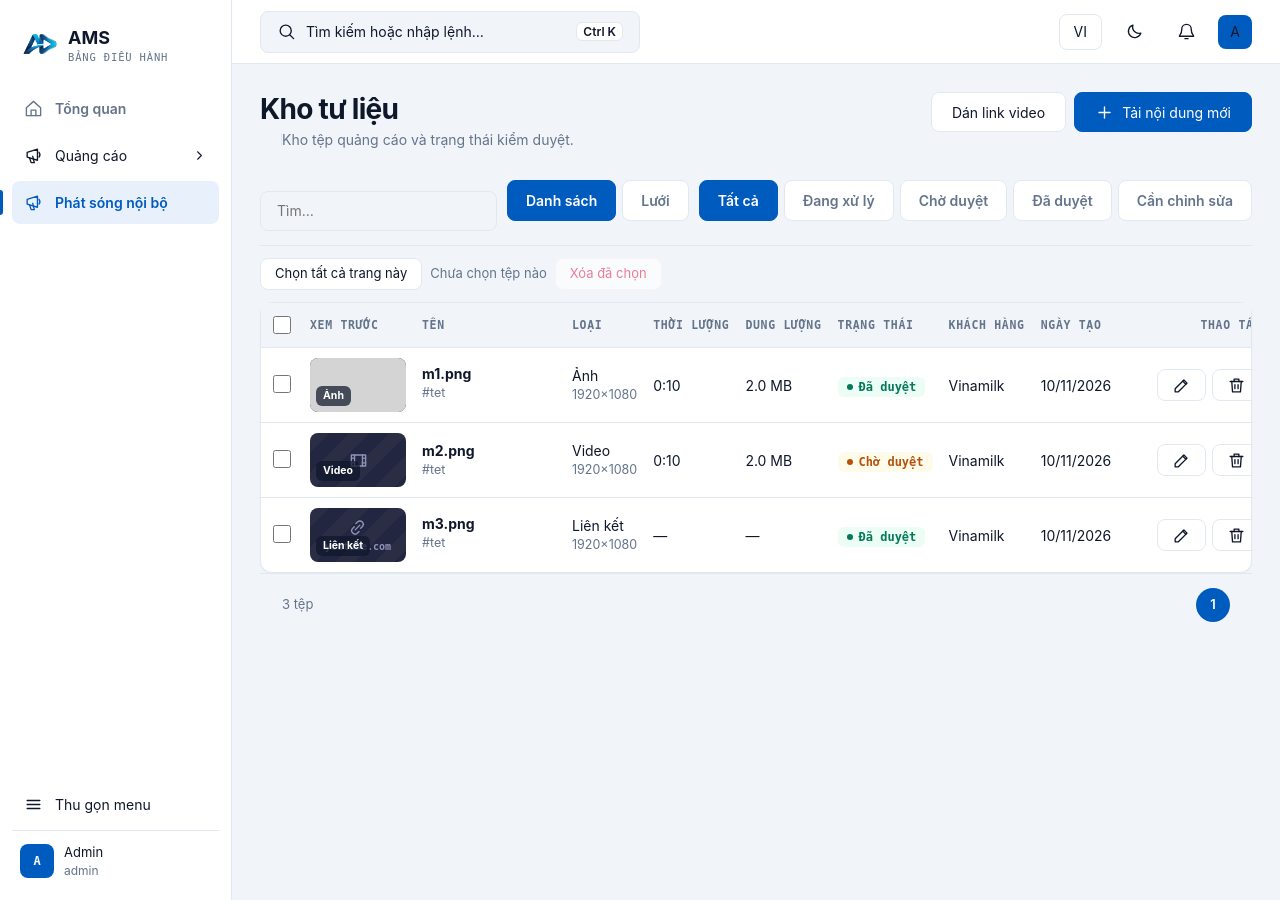
Test case: Noi dung & Media: danh sach, thumbnail, sua, xoa › mac dinh la danh sach co thumbnail + cot ten/loai/thoi luong/dung luong/trang thai/khach/ngay; chuyen sang luoi
Expected: the column heading "Tên" is shown, [414,303,564,348]
Expected: the column heading "Loại" is shown, [564,303,645,348]
Click the button "Lưới": (655, 200) [622,180,689,221]
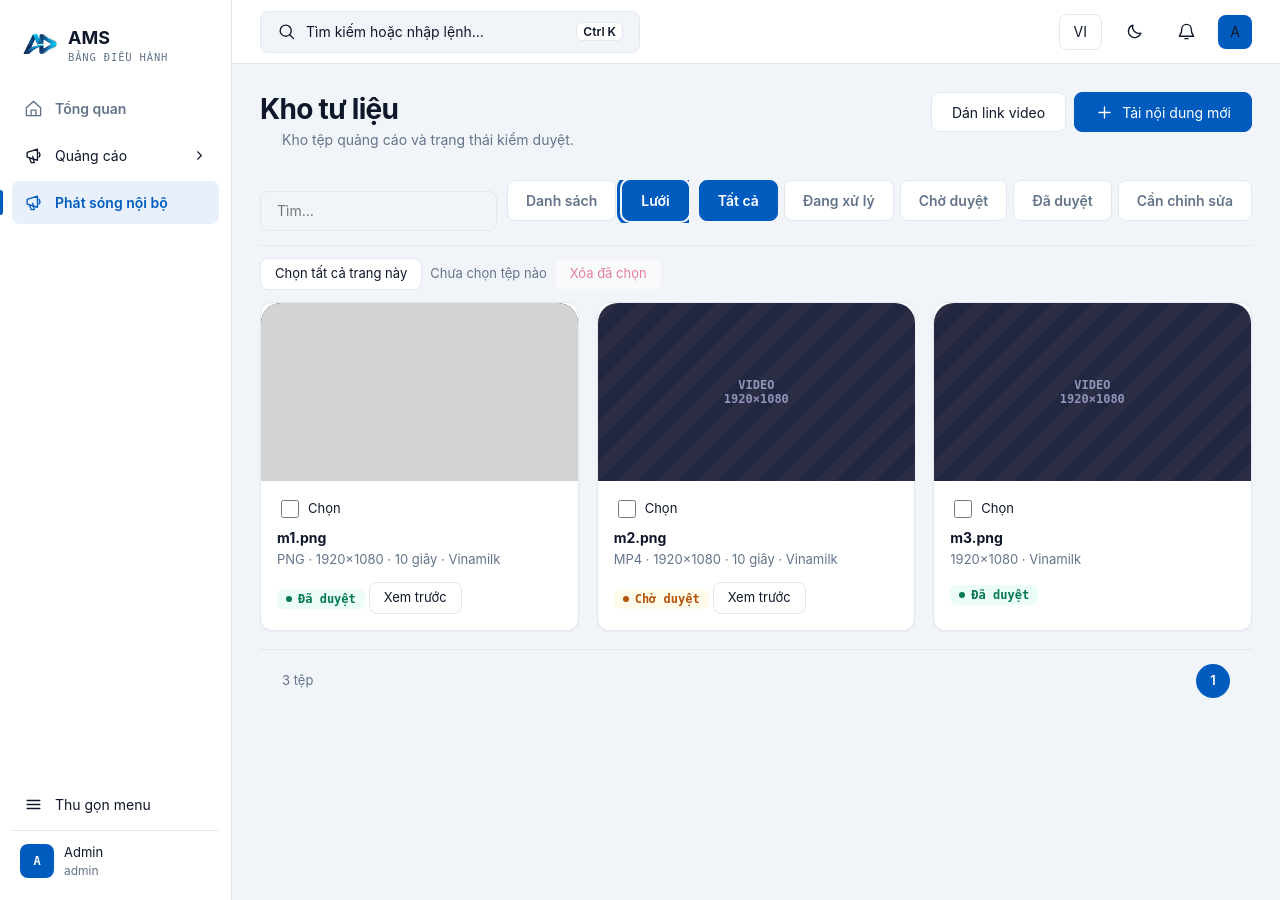
Now the number of checkboxes named "Chọn tệp " is 3, box [281,500,299,518]; [618,500,636,518]; [954,500,972,518]
